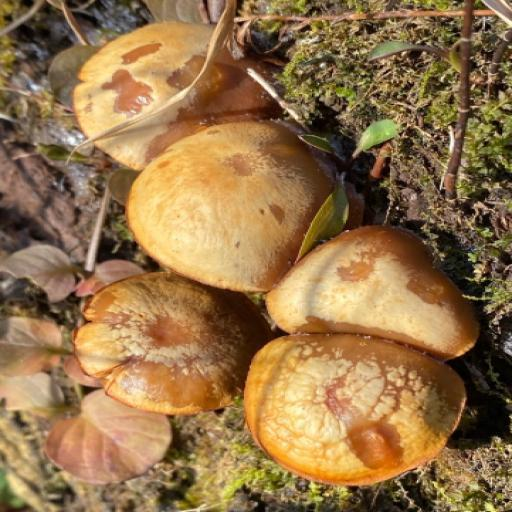mushroom: (66, 10, 488, 494)
